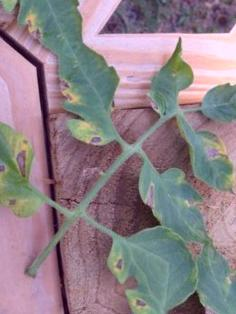Tomato Early blight leaf: (38, 42, 143, 160), (124, 142, 223, 261), (123, 28, 218, 122), (0, 94, 61, 233), (169, 108, 236, 210), (192, 66, 236, 136)
